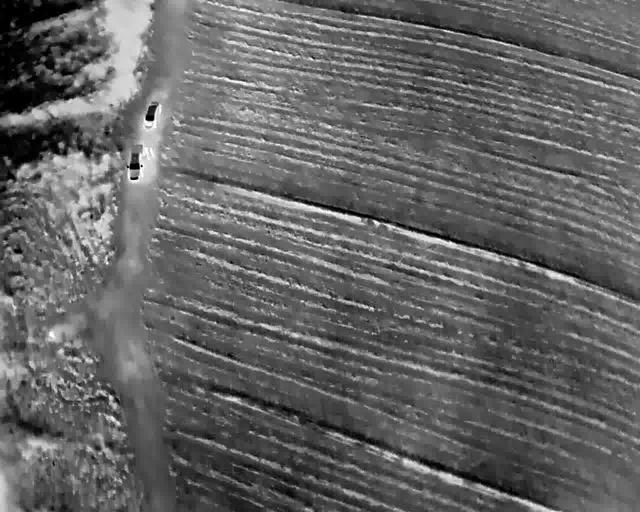car: (127, 145, 143, 181), (144, 99, 160, 128)
person: (48, 332, 56, 339), (149, 147, 153, 156)
